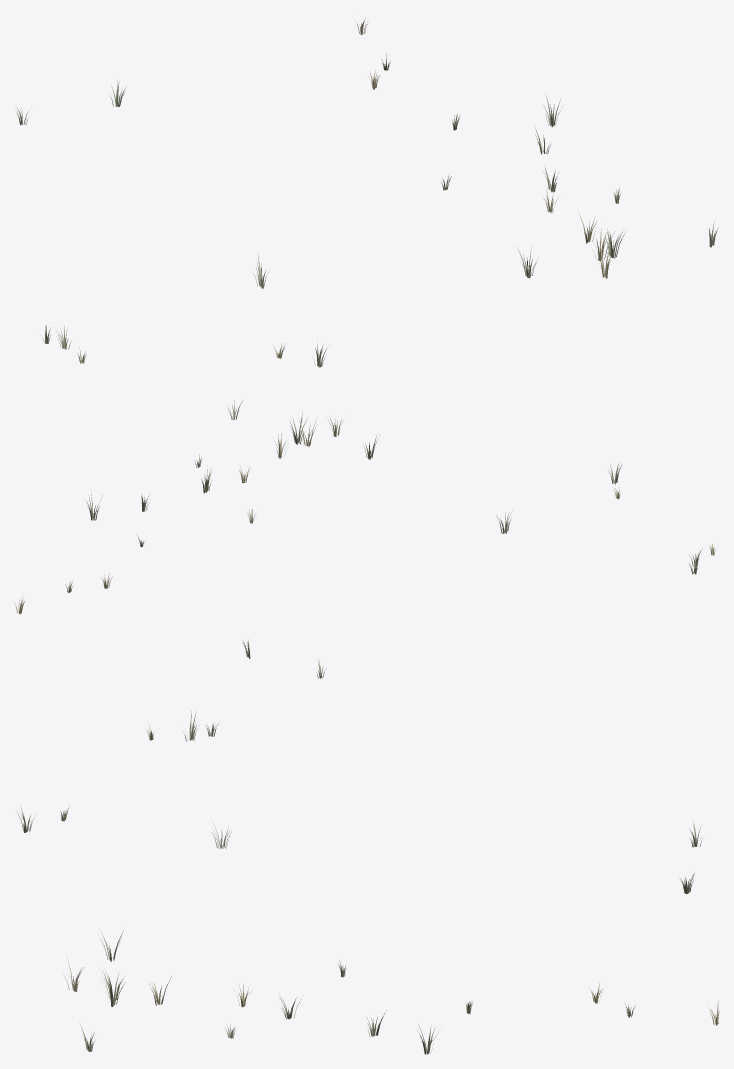
Rendered from AE_Grass_3_1.fbx.
3 renders of one model, top to bottom at view 1: azimuth 30°, elevation 25°; view 2: azimuth 150°, elevation 25°; view 3: azimuth 270°, elevation 25°, orthographic. The views are drawn at different scales.
Visible parts, largest first — view 1: AE_Grass_3_1_LOD0; view 2: AE_Grass_3_1_LOD0; view 3: AE_Grass_3_1_LOD0.
Boxes of the visible parts, left/top/right/bottom form: AE_Grass_3_1_LOD0: left=16, top=18, right=718, bottom=367; AE_Grass_3_1_LOD0: left=14, top=400, right=716, bottom=678; AE_Grass_3_1_LOD0: left=16, top=711, right=719, bottom=1054.
Size of what is drawn, in the model's own units: 1725 by 95.27 by 1622.
